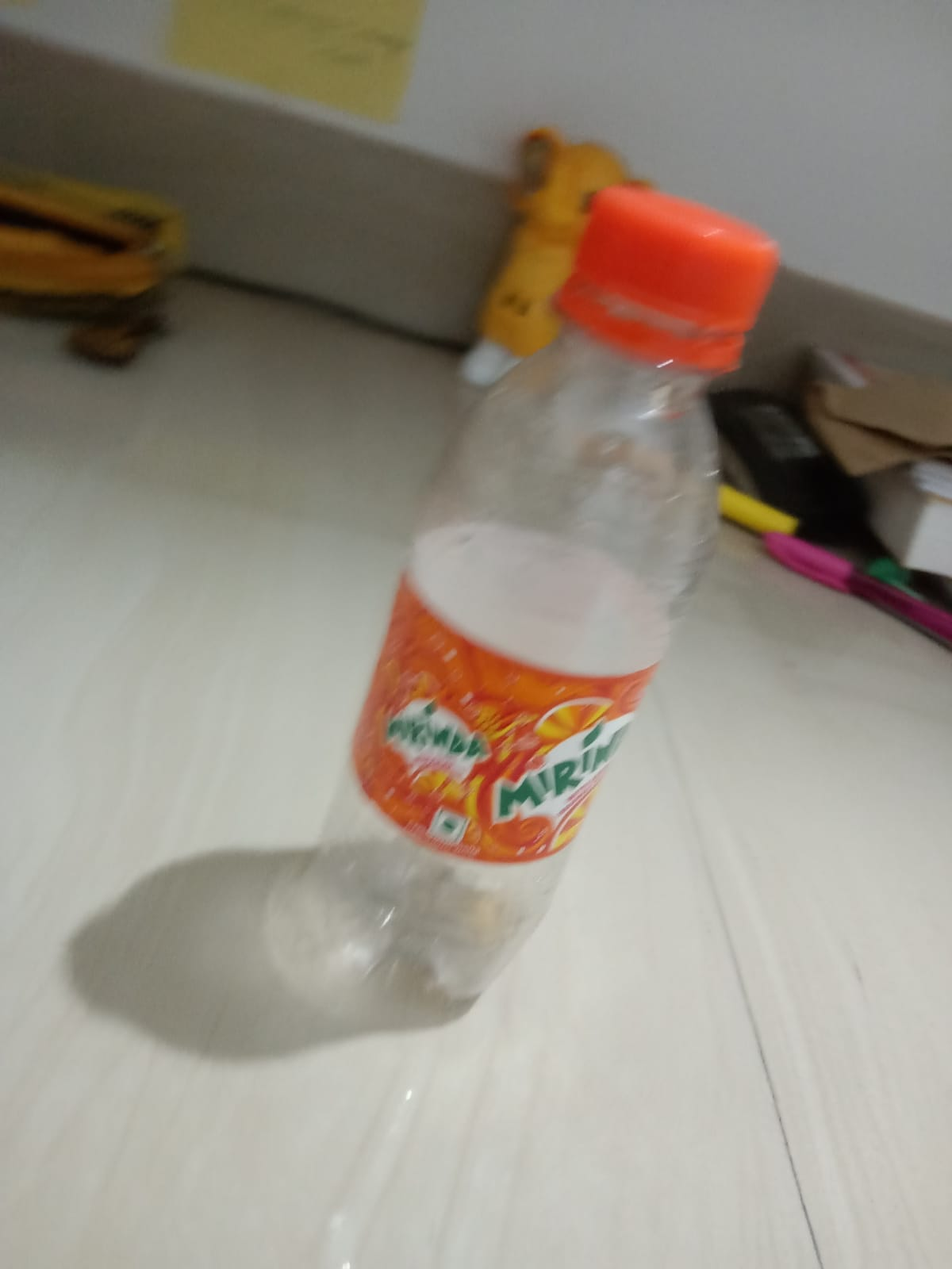plastic: (249, 19, 731, 1200)
